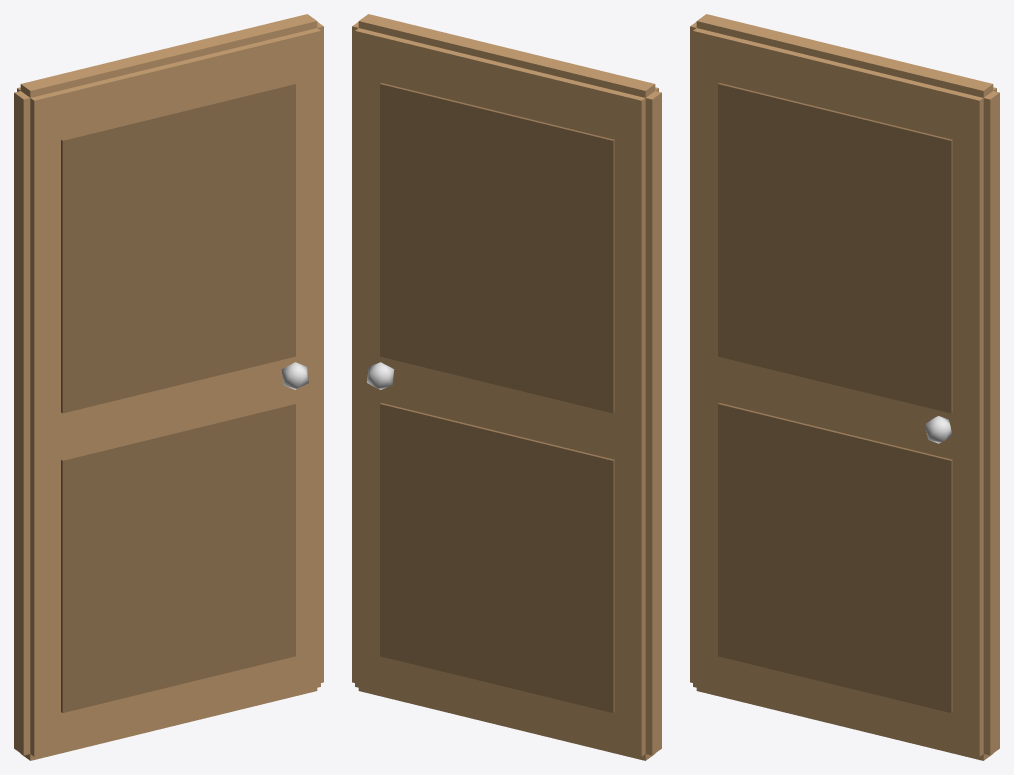
Rendered from palm_door_v0.glb.
3 renders of one model, left to right at view 1: azimuth 30°, elevation 25°; view 2: azimuth 150°, elevation 25°; view 3: azimuth 330°, elevation 25°, orthographic.
Visible parts, largest first — view 1: palm_door_v0; view 2: palm_door_v0; view 3: palm_door_v0.
Boxes of the visible parts, x1,y1,x2,y2 form: palm_door_v0: [14, 14, 323, 760]; palm_door_v0: [352, 14, 661, 760]; palm_door_v0: [690, 14, 999, 760].
Size of the model in its own units: 0.9 by 1.92 by 0.2381.
